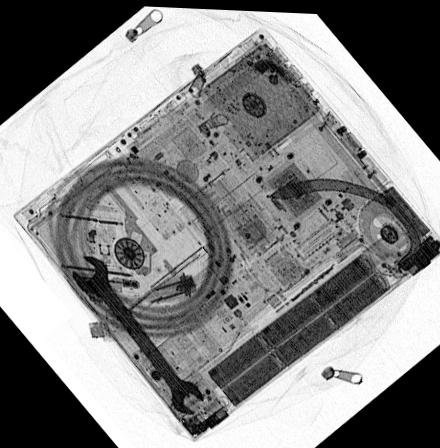Wrench: (71, 252, 205, 413)
